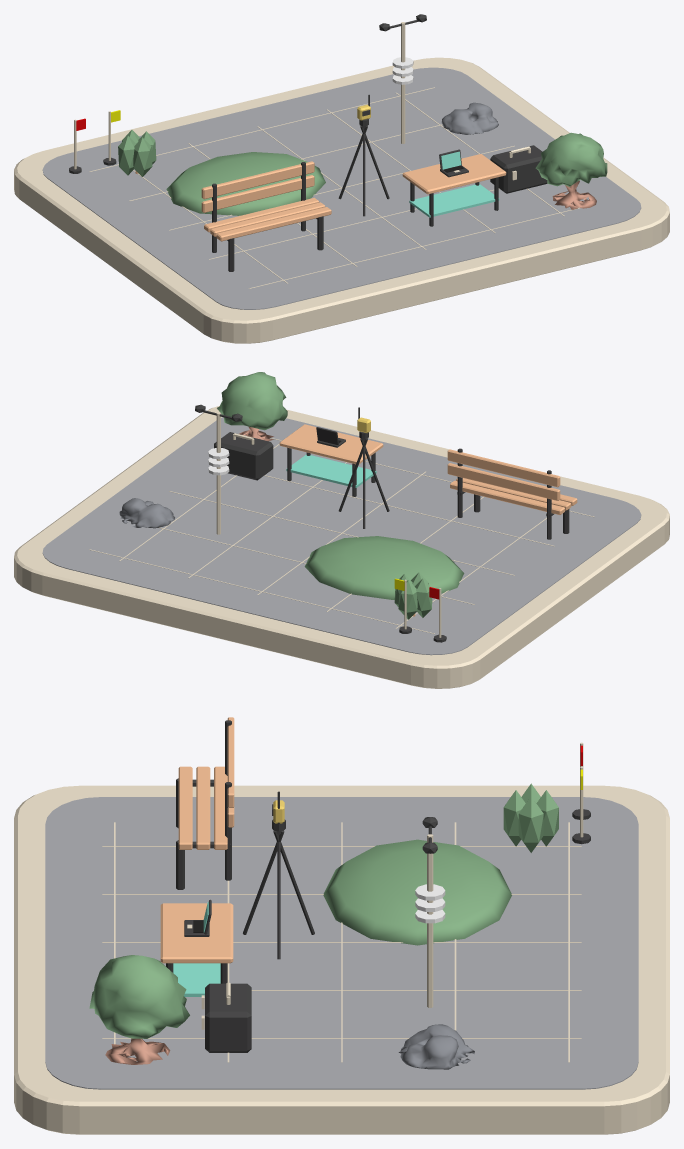
Rendered from room.fbx.
3 views of the same model, one above another, from view 1: azimuth 30°, elevation 25°; view 2: azimuth 150°, elevation 25°; view 3: azimuth 270°, elevation 25° (orthographic). The views are drawn at different scales.
Parts seen in each view (by area): view 1: COM-02 Floor Surface, COM-01 Rounded Base Direct, Low terrain, 둥근 수관 나무, Worktop, Case, Lower shelf, 둥근 강돌 무리, Back slat.001, Back slat, Seat slat, Seat slat.002 (+4 smaller); view 2: COM-02 Floor Surface, COM-01 Rounded Base Direct, Low terrain, 둥근 수관 나무, Worktop, Case, Lower shelf, Back slat.001, Back slat, 둥근 강돌 무리, Seat slat.002, Seat slat.001 (+4 smaller); view 3: COM-02 Floor Surface, COM-01 Rounded Base Direct, Low terrain, 둥근 수관 나무, Worktop, Case, 둥근 강돌 무리, Seat slat, Seat slat.001, Lower shelf, Leaf, Seat slat.002 (+4 smaller).
Boxes of the visible parts, x1,y1,x2,y2 form: COM-02 Floor Surface: (42, 67, 641, 309); COM-01 Rounded Base Direct: (14, 57, 669, 343); Low terrain: (166, 152, 325, 215); 둥근 수관 나무: (535, 132, 607, 209); Worktop: (402, 154, 506, 194); Case: (490, 145, 547, 193); Lower shelf: (409, 184, 499, 217); 둥근 강돌 무리: (441, 102, 498, 134); Back slat.001: (201, 161, 314, 199); Back slat: (201, 175, 314, 212); Seat slat: (216, 207, 331, 241); Seat slat.002: (204, 197, 319, 232); COM-02 Floor Surface: (42, 417, 641, 655); COM-01 Rounded Base Direct: (14, 405, 669, 688); Low terrain: (304, 536, 464, 599); 둥근 수관 나무: (217, 372, 287, 441); Worktop: (279, 424, 383, 464); Case: (214, 432, 273, 480); Lower shelf: (286, 454, 376, 487); Back slat.001: (447, 449, 560, 487); Back slat: (447, 463, 560, 500); 둥근 강돌 무리: (119, 498, 174, 528); Seat slat.002: (450, 480, 564, 514); Seat slat.001: (456, 478, 571, 510); COM-02 Floor Surface: (45, 797, 638, 1089); COM-01 Rounded Base Direct: (14, 785, 669, 1134); Low terrain: (323, 839, 511, 945); 둥근 수관 나무: (89, 955, 189, 1064); Worktop: (160, 903, 233, 963); Case: (205, 983, 251, 1052); 둥근 강돌 무리: (398, 1024, 474, 1069); Seat slat: (178, 766, 192, 849); Seat slat.001: (196, 766, 210, 849); Lower shelf: (173, 963, 220, 996); Leaf: (518, 796, 543, 852); Seat slat.002: (214, 766, 227, 849).
Size of the model in its own units: 600 by 185 by 520.
